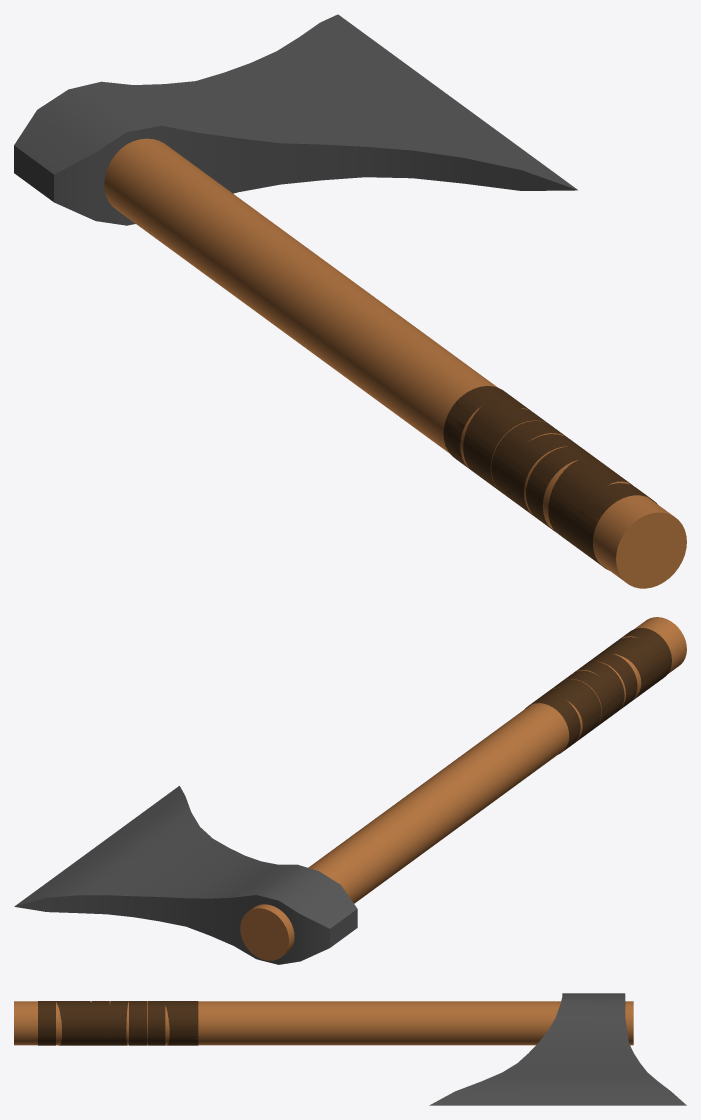
File: HandAxeThickerHead2.fbx
The picture shows the model from 3 angles, top to bottom: view 1: azimuth 30°, elevation 25°; view 2: azimuth 150°, elevation 25°; view 3: azimuth 270°, elevation 25°; orthographic projection. The views are drawn at different scales.
Parts seen in each view (by area): view 1: Blade, Handle, Wrap; view 2: Blade, Handle, Wrap; view 3: Handle, Blade, Wrap.
Boxes of the visible parts, x1=… form: Blade: x1=14, y1=14, x2=577, y2=225; Handle: x1=104, y1=138, x2=686, y2=588; Wrap: x1=443, y1=386, x2=657, y2=570; Blade: x1=14, y1=786, x2=357, y2=964; Handle: x1=240, y1=617, x2=686, y2=960; Wrap: x1=525, y1=628, x2=671, y2=754; Handle: x1=14, y1=1001, x2=633, y2=1045; Blade: x1=429, y1=993, x2=686, y2=1105; Wrap: x1=38, y1=1001, x2=198, y2=1045.
Size of the model in its own units: 84.1 by 19.18 by 234.
